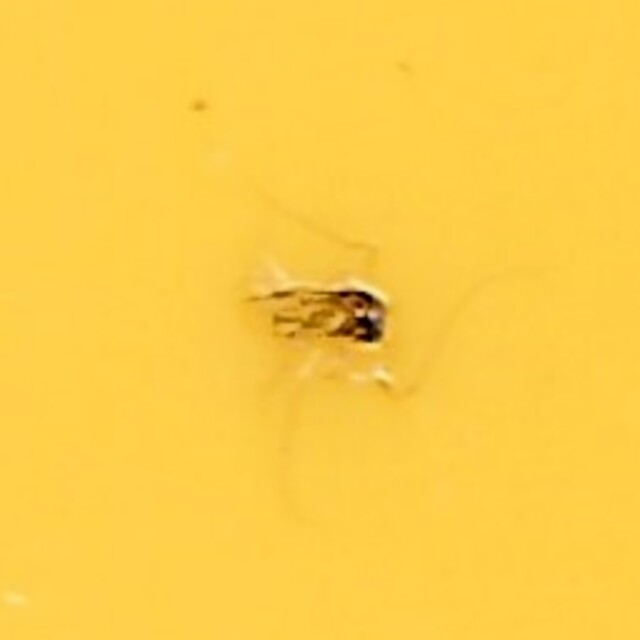Nematocera: (250, 283, 390, 357)
